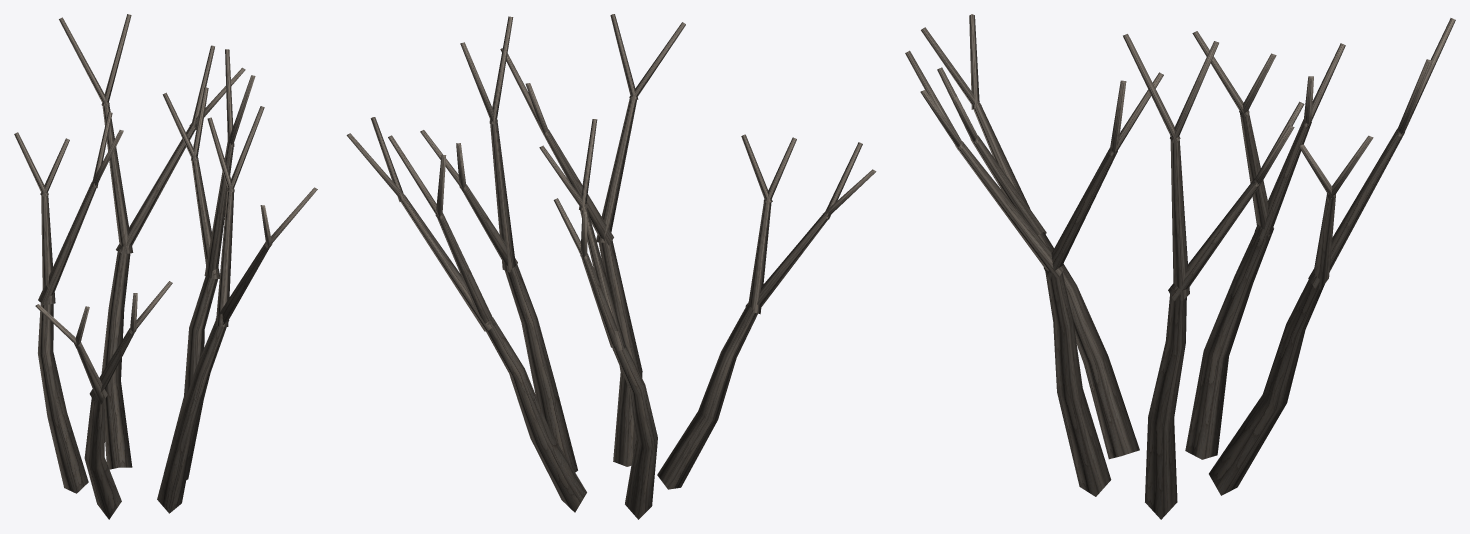
The model's file is shrub_twig_bare.glb.
3 renders of one model, left to right at view 1: azimuth 30°, elevation 25°; view 2: azimuth 150°, elevation 25°; view 3: azimuth 270°, elevation 25°, orthographic. The views are drawn at different scales.
Parts seen in each view (by area): view 1: shrub_twig_bare; view 2: shrub_twig_bare; view 3: shrub_twig_bare.
Boxes of the visible parts, box(x1,y1,x2,y2) form: shrub_twig_bare: box(14, 14, 317, 519); shrub_twig_bare: box(346, 14, 876, 519); shrub_twig_bare: box(905, 14, 1455, 519).
Bounding box in the file's own units: 1.03 × 1.17 × 1.12.
1 material, 1 textured.
